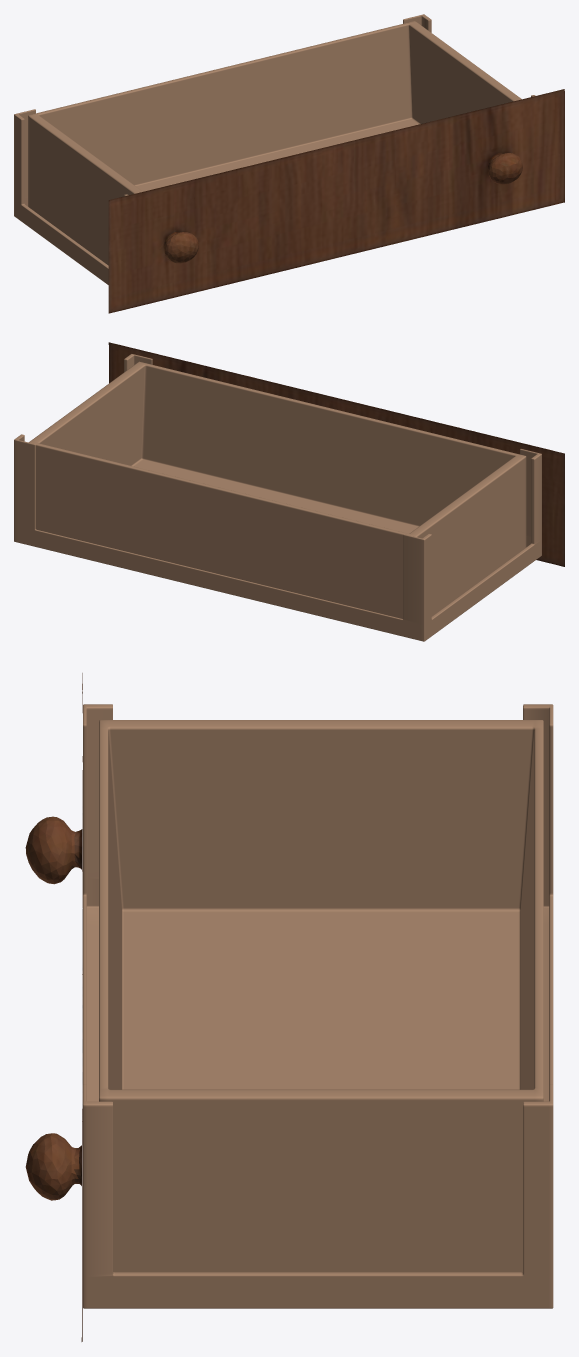
Rendered from drawer_1.glb.
The picture shows the model from 3 angles, top to bottom: view 1: azimuth 30°, elevation 25°; view 2: azimuth 150°, elevation 25°; view 3: azimuth 270°, elevation 25°; orthographic projection. The views are drawn at different scales.
Parts seen in each view (by area): view 1: source_front_cap_0, prefab_drawer_body_1; view 2: prefab_drawer_body_1, source_front_cap_0; view 3: prefab_drawer_body_1, source_front_cap_0.
Boxes of the visible parts, <box> form: source_front_cap_0: <box>108,89,564,313</box>; prefab_drawer_body_1: <box>14,14,535,284</box>; prefab_drawer_body_1: <box>14,354,541,641</box>; source_front_cap_0: <box>108,342,564,566</box>; prefab_drawer_body_1: <box>83,704,553,1308</box>; source_front_cap_0: <box>25,673,82,1341</box>.
Size of the model in its own units: 0.8147 by 0.1937 by 0.4081.
2 materials, 1 textured.
